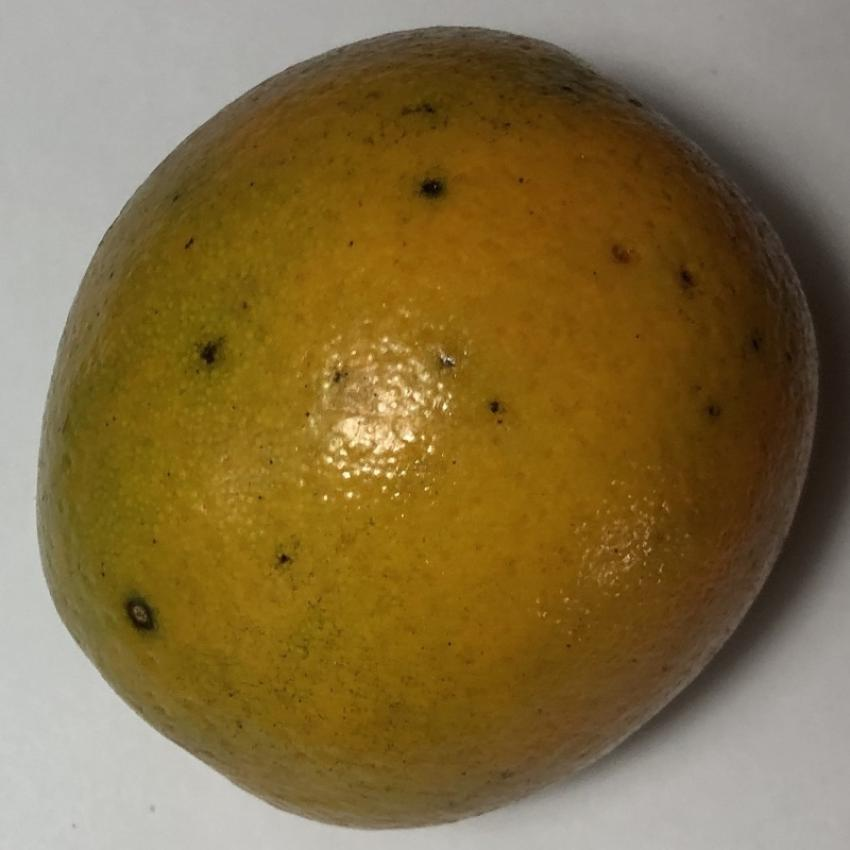Mal estado: (27, 20, 826, 836)
